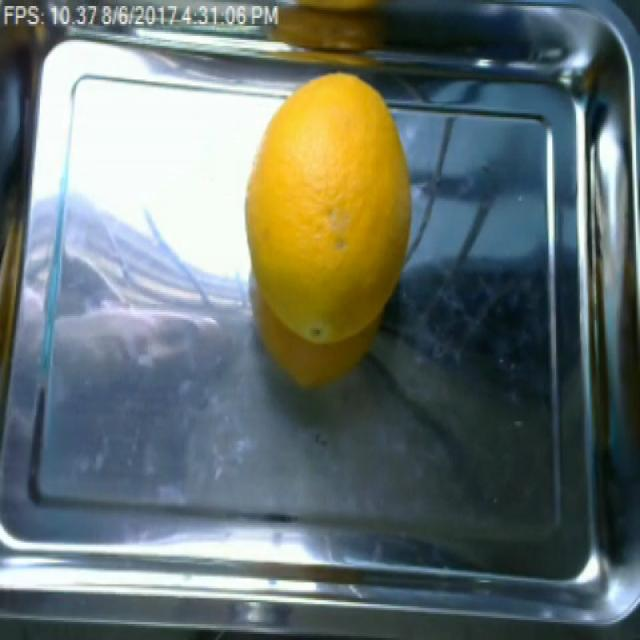Fruit: (232, 64, 412, 372)
